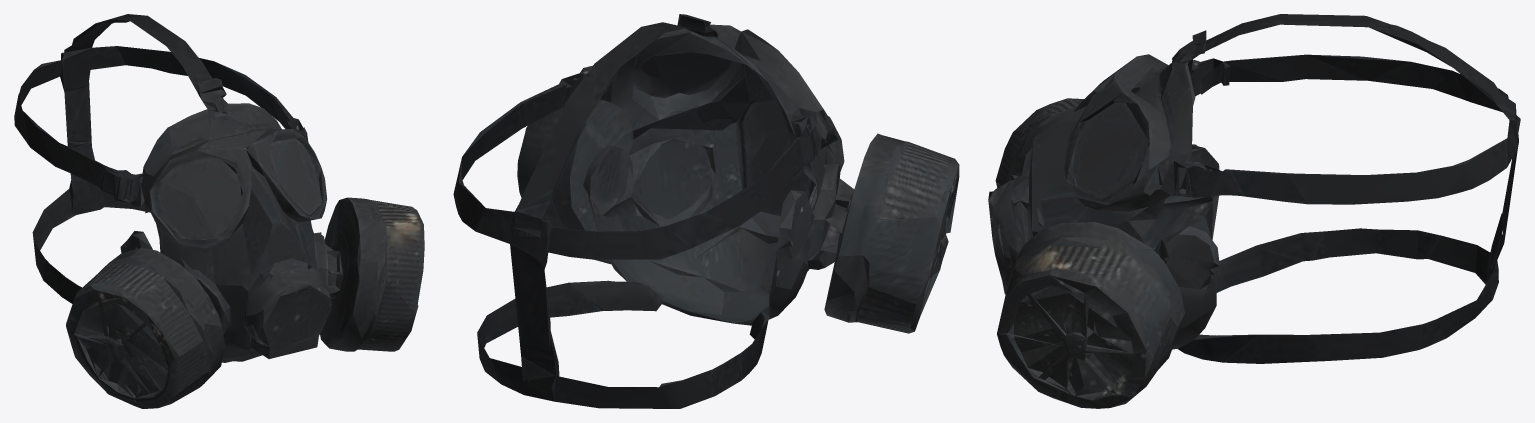
File: respirator.glb
3 views of the same model, side by side, from view 1: azimuth 30°, elevation 25°; view 2: azimuth 150°, elevation 25°; view 3: azimuth 270°, elevation 25° (orthographic). The views are drawn at different scales.
Size of the model in its own units: 1.62 by 1.27 by 1.9.
1 material, 1 textured.
